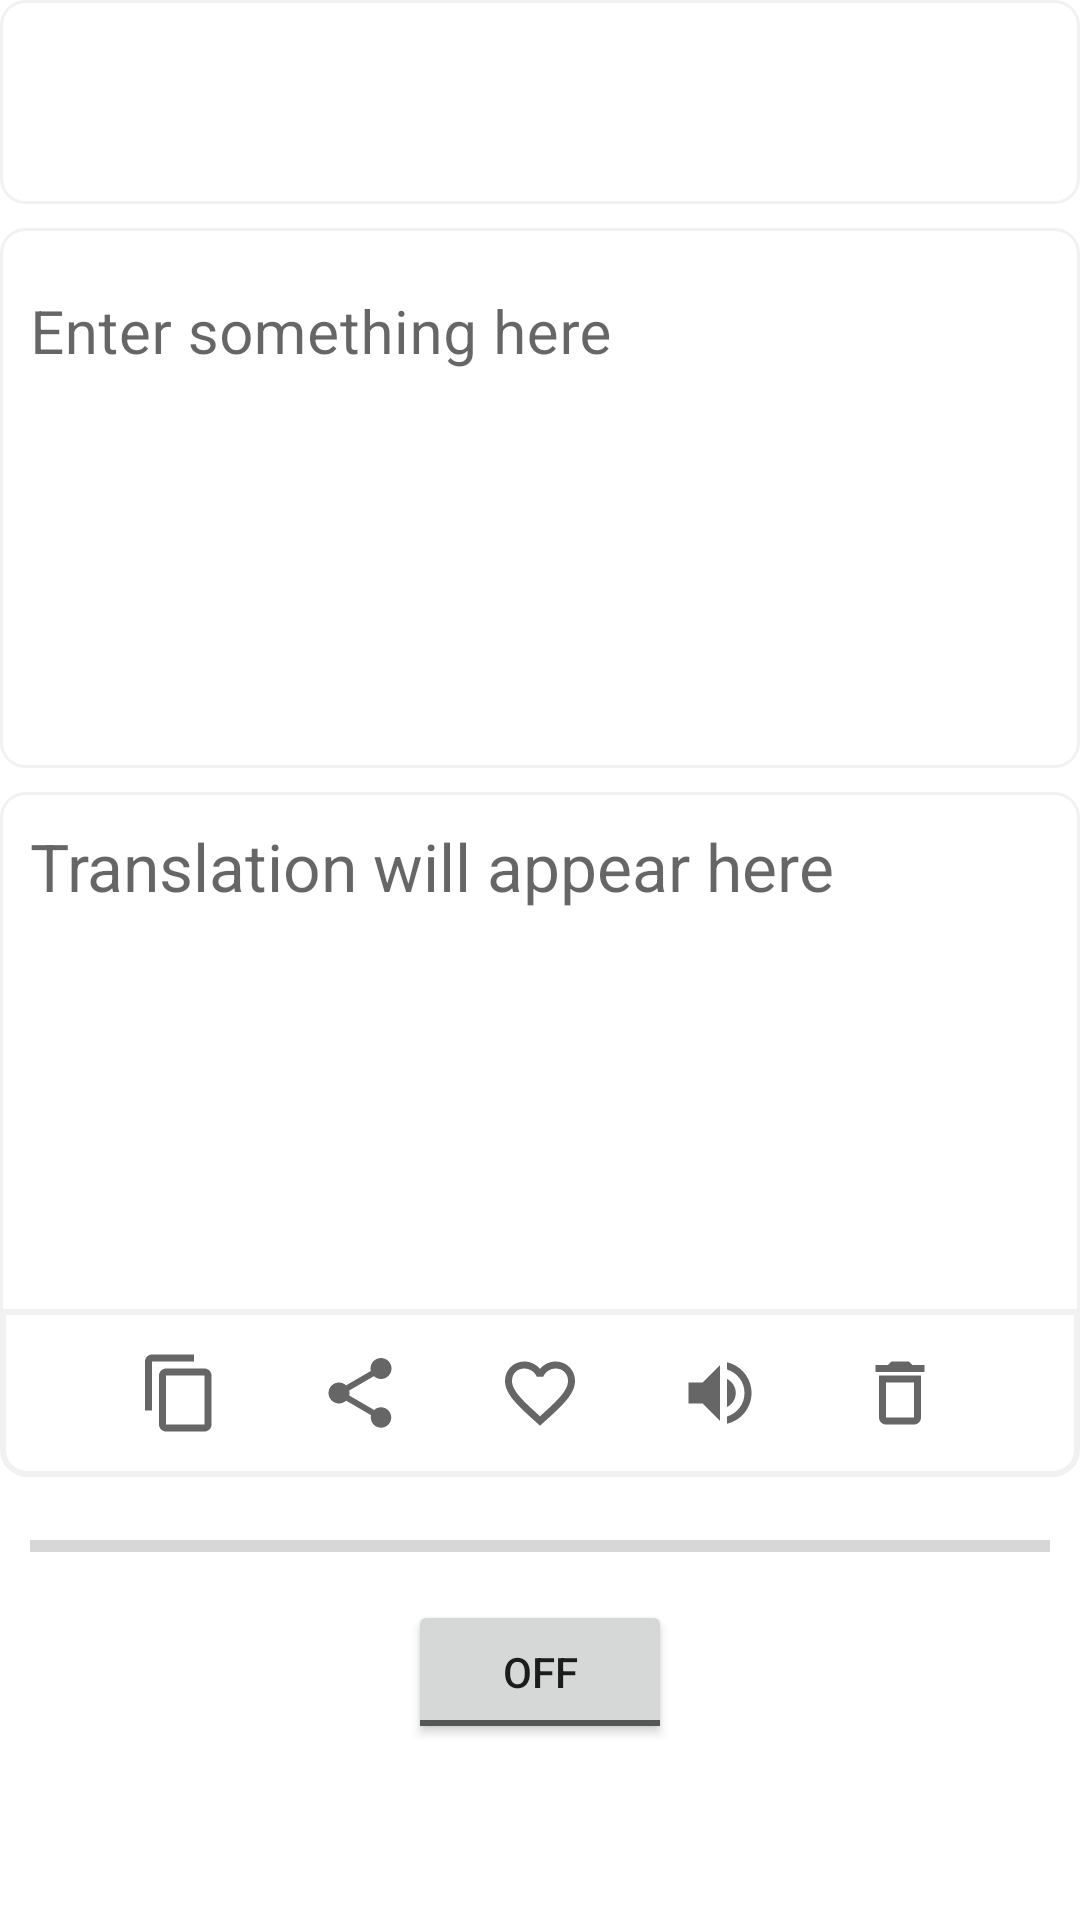

Icons on this 1080 x 1920 Android screen, each with the point to tap as point (x, y):
delete: point (900, 1393)
favorite border: point (540, 1393)
share: point (360, 1393)
volume up: point (720, 1393)
